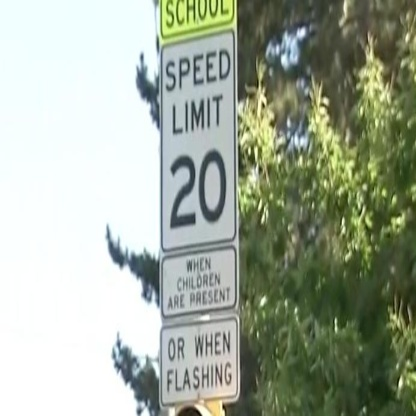limit1: (156, 29, 239, 253)
